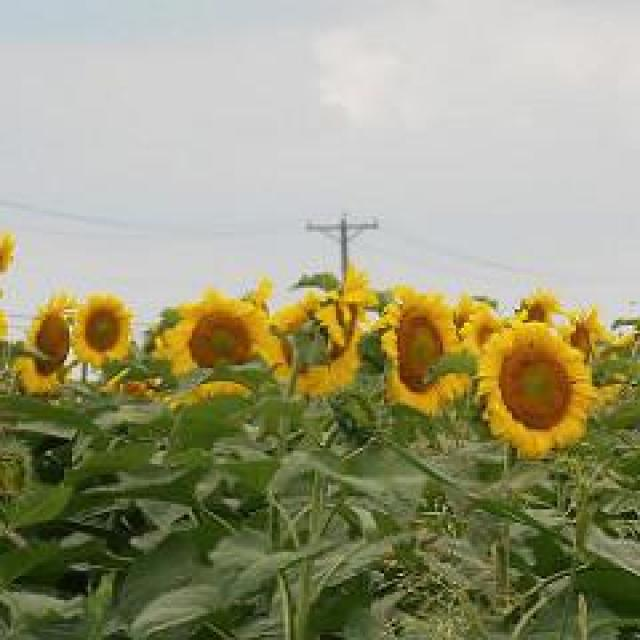sunflower: (478, 325, 590, 461), (376, 282, 461, 418), (157, 285, 272, 376), (262, 294, 358, 398), (75, 294, 132, 366), (21, 293, 80, 359), (459, 312, 508, 356), (568, 309, 610, 353), (514, 290, 566, 324), (16, 359, 59, 394), (344, 266, 378, 304)
